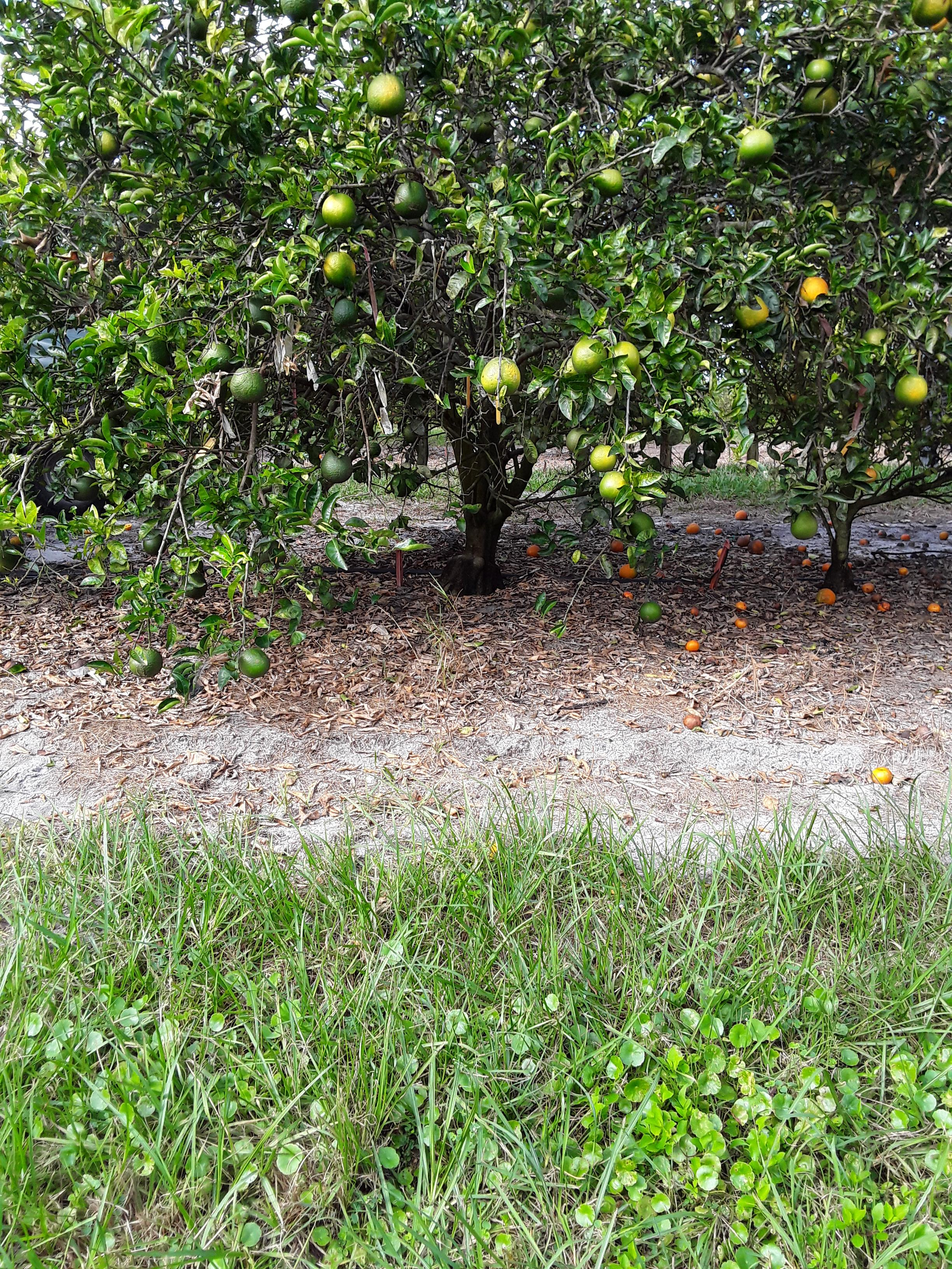fruit_on_ground: (362, 70, 410, 119), (224, 363, 270, 406), (478, 355, 523, 397), (735, 125, 779, 167), (318, 189, 360, 229), (798, 78, 841, 116), (392, 179, 432, 219), (569, 334, 607, 375), (234, 642, 274, 680), (321, 248, 359, 287), (124, 643, 165, 679), (556, 353, 594, 391), (892, 372, 931, 409), (733, 293, 771, 330), (198, 337, 235, 374), (608, 337, 643, 376), (908, 0, 951, 31), (591, 164, 626, 199), (88, 126, 122, 162), (319, 451, 355, 485), (539, 277, 574, 311), (464, 109, 499, 143), (510, 7, 544, 41), (13, 215, 50, 246), (329, 294, 363, 327), (563, 423, 595, 456), (798, 273, 831, 305), (866, 154, 901, 184), (180, 566, 210, 601), (182, 10, 214, 42), (587, 441, 620, 472), (802, 55, 837, 84), (67, 470, 98, 502), (597, 470, 629, 501), (277, 1, 323, 22), (789, 510, 821, 539), (137, 529, 166, 557), (861, 324, 891, 349), (0, 544, 23, 575), (251, 541, 278, 566), (923, 11, 951, 35), (638, 600, 664, 624), (400, 424, 420, 444), (364, 438, 384, 458), (4, 530, 26, 548), (98, 246, 118, 265), (861, 465, 880, 483)
fruit_on_tree: (870, 764, 894, 785), (681, 710, 703, 730), (815, 587, 836, 606), (617, 562, 638, 580), (524, 542, 542, 559), (608, 537, 626, 553), (747, 538, 763, 554), (684, 637, 701, 652), (684, 521, 701, 535), (733, 507, 749, 521), (620, 587, 635, 601), (860, 580, 875, 594), (735, 533, 750, 547), (876, 600, 892, 613), (734, 615, 748, 629), (926, 601, 941, 614), (733, 599, 747, 612), (795, 542, 809, 554), (820, 559, 833, 571), (937, 528, 950, 540), (799, 557, 813, 568), (917, 565, 929, 576), (688, 605, 700, 616), (712, 525, 724, 536), (843, 559, 855, 570), (898, 565, 909, 576), (900, 531, 912, 541), (858, 536, 869, 546), (875, 528, 886, 537)
